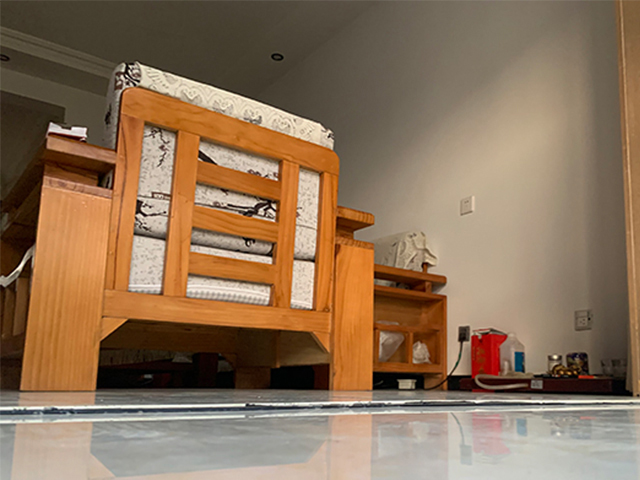sofa: (1, 60, 375, 392), (372, 228, 449, 392)
wire: (422, 339, 463, 392)
